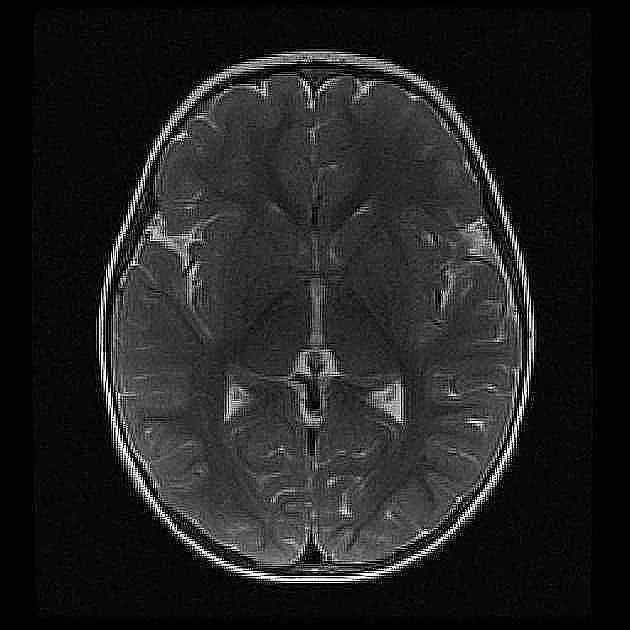Normal_Brain: (1, 5, 630, 630)
